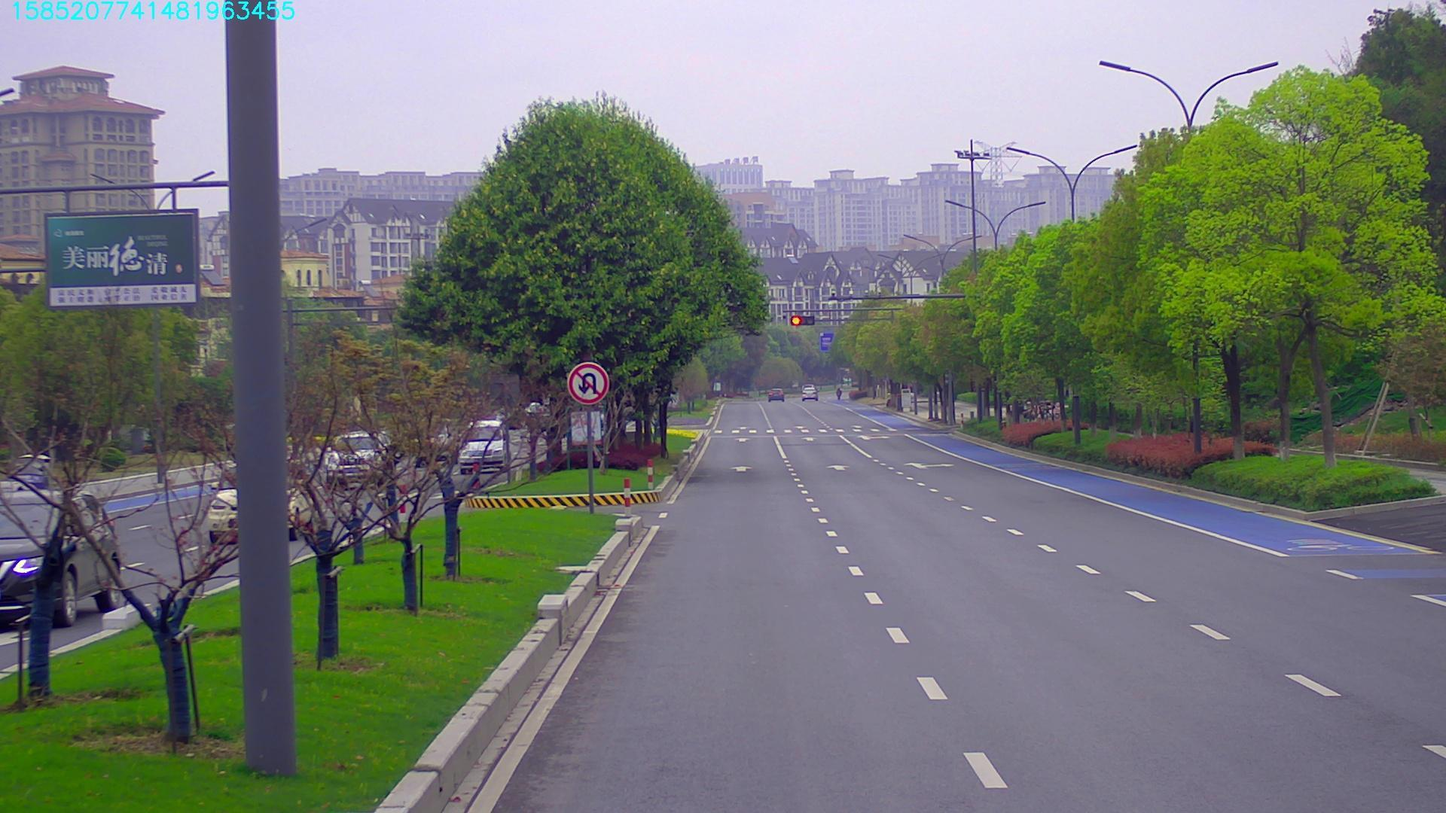red: (789, 312, 817, 325)
